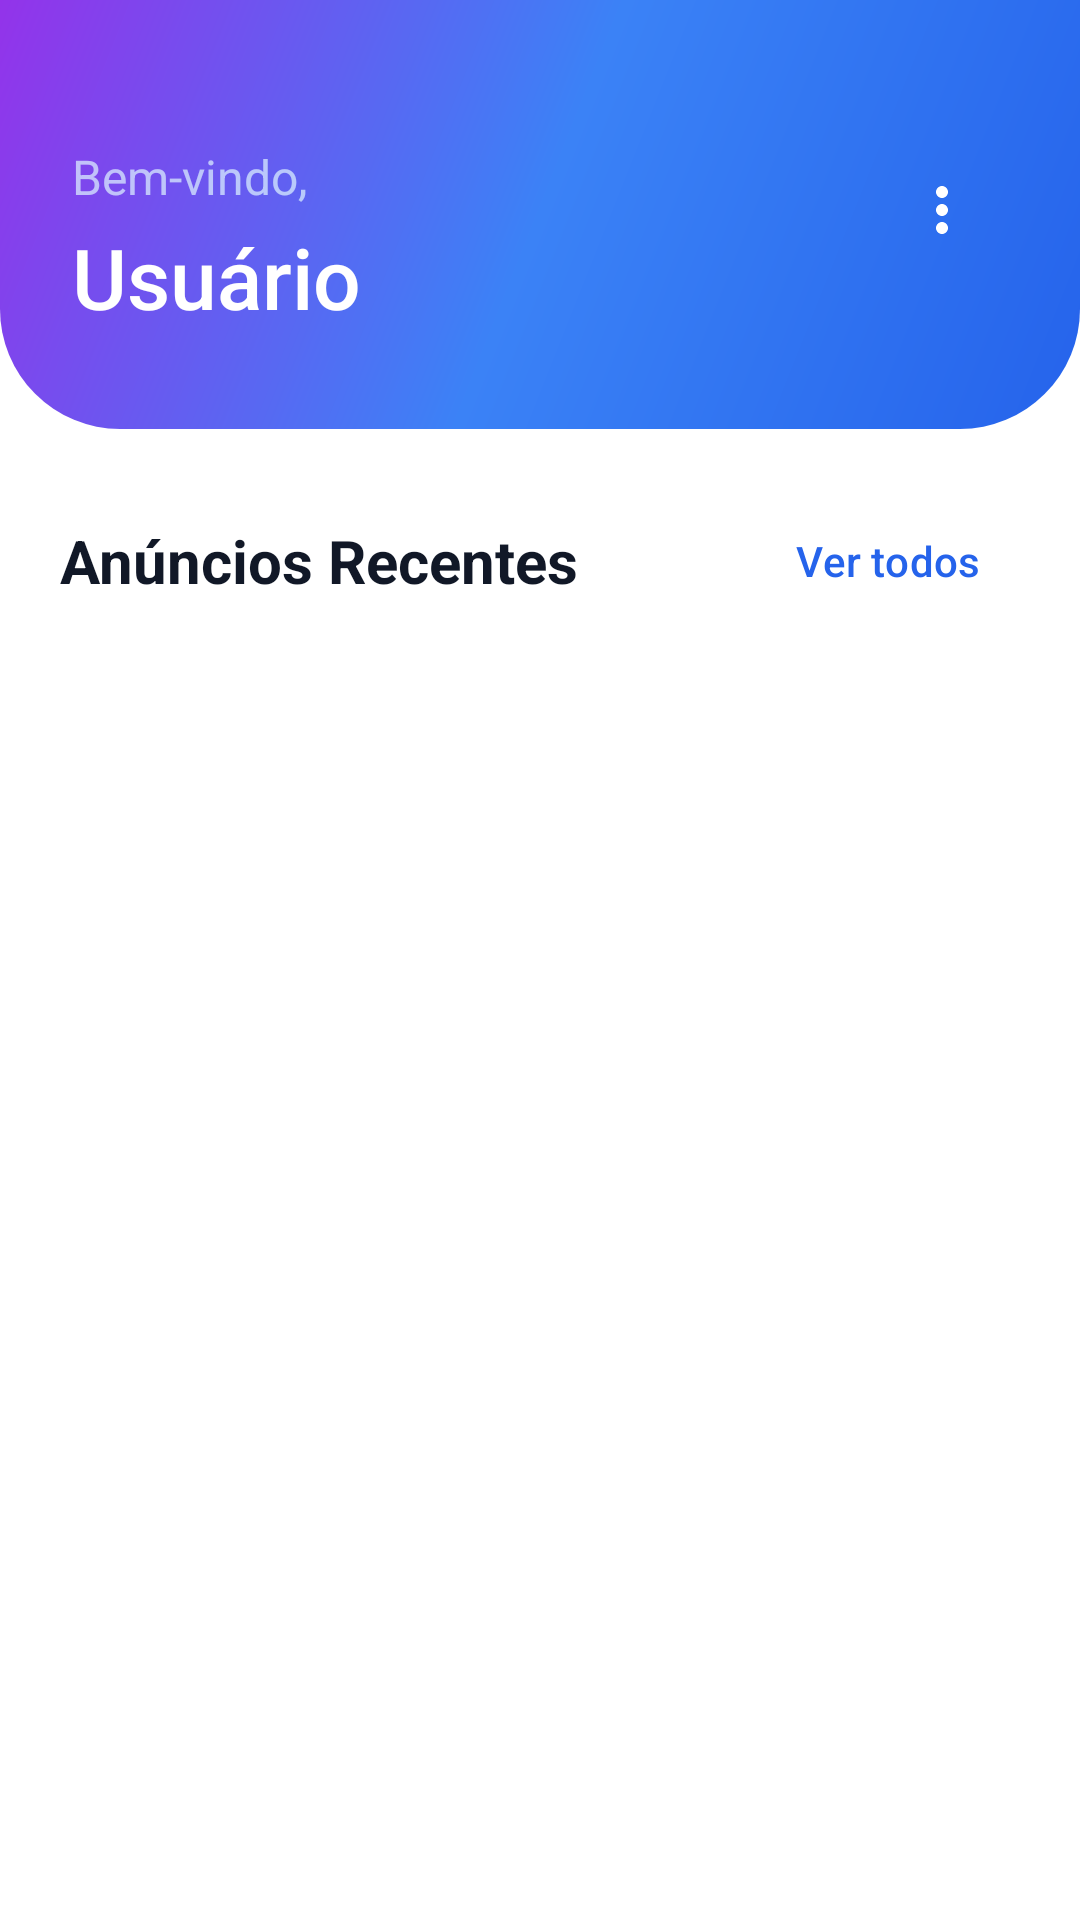

Where icons sit on this 1080px×1920px app screen, as bbox=[x1, y1, x2, y2]:
Menu: bbox=[936, 186, 948, 234]
